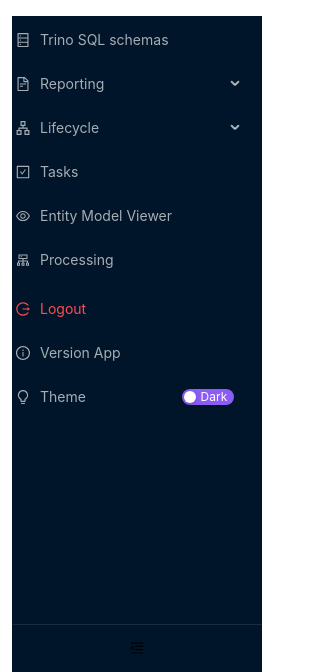
Test: LeftSideMenu › Submenu Behavior › should render submenu items for Reporting
Click the menu item "Reporting".
click(60, 84)  # box [16,75,104,92]
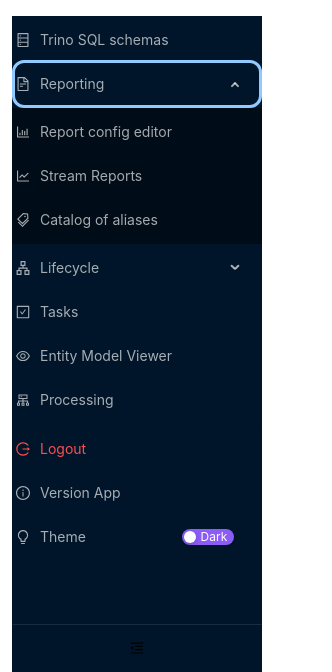
Check: the text "Report config editor" is shown, box [40,123,172,140]
Check: the text "Stream Reports" is shown, box [40,167,142,184]
Check: the text "Catalog of aliases" is shown, box [40,211,158,228]
